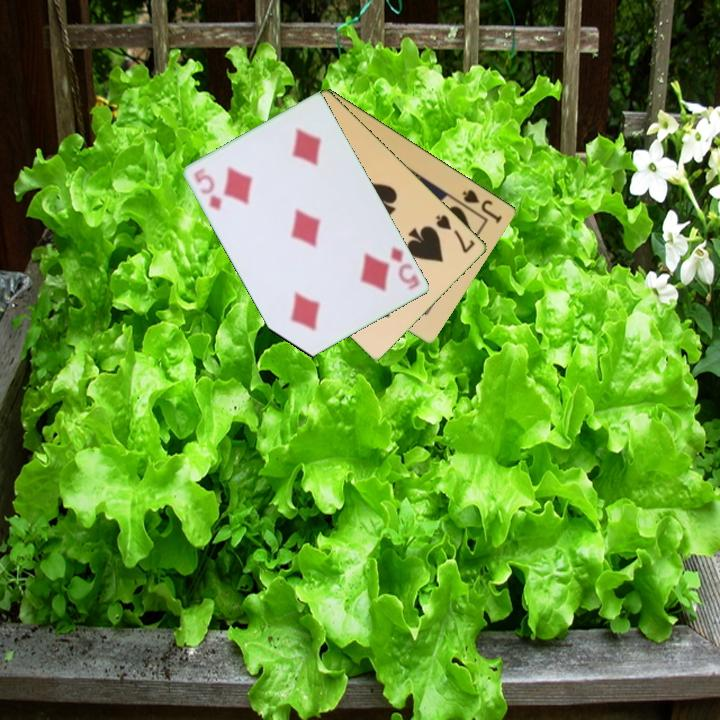5d: (387, 243, 423, 293), (191, 164, 225, 214)
7s: (433, 211, 478, 256)
Js: (459, 186, 505, 226)
